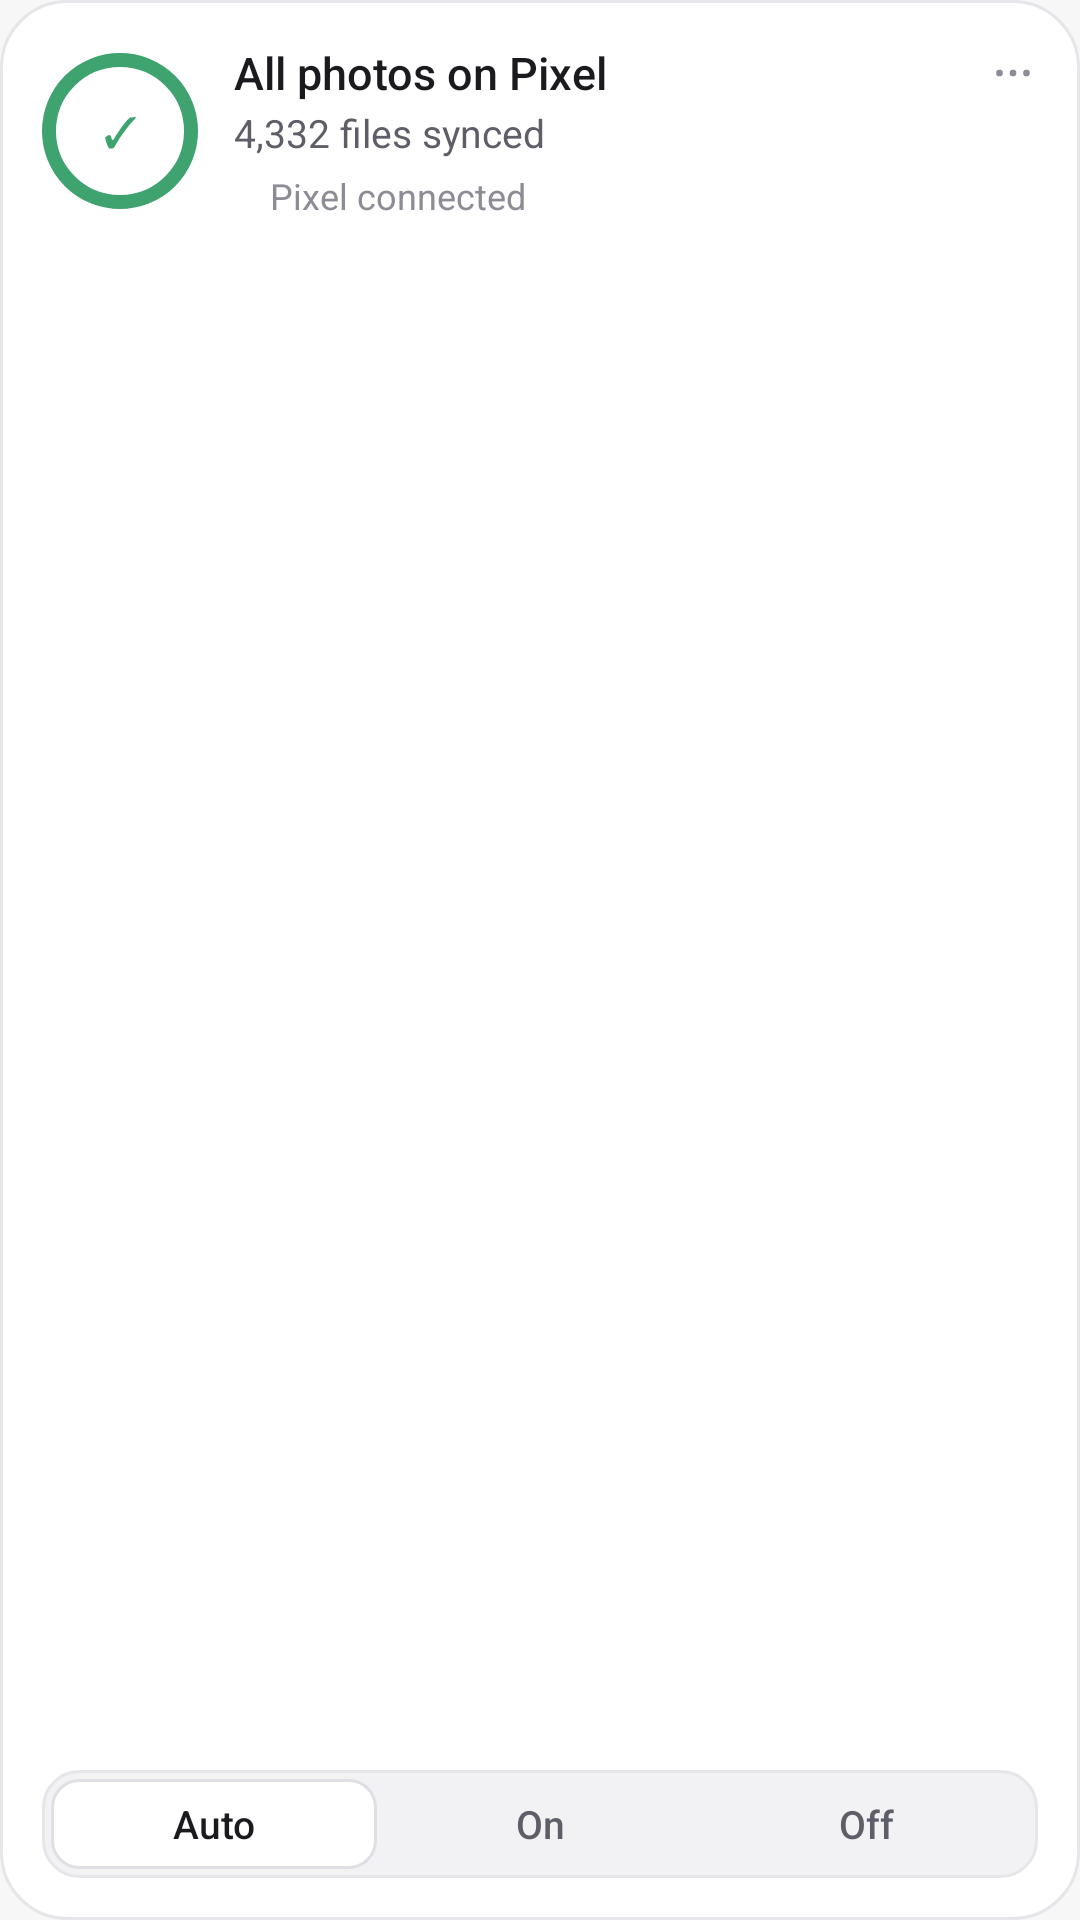

Point at icon controls on the screen. Image size 1080px×1920px, points as [x,y].
ring: [120,131]
